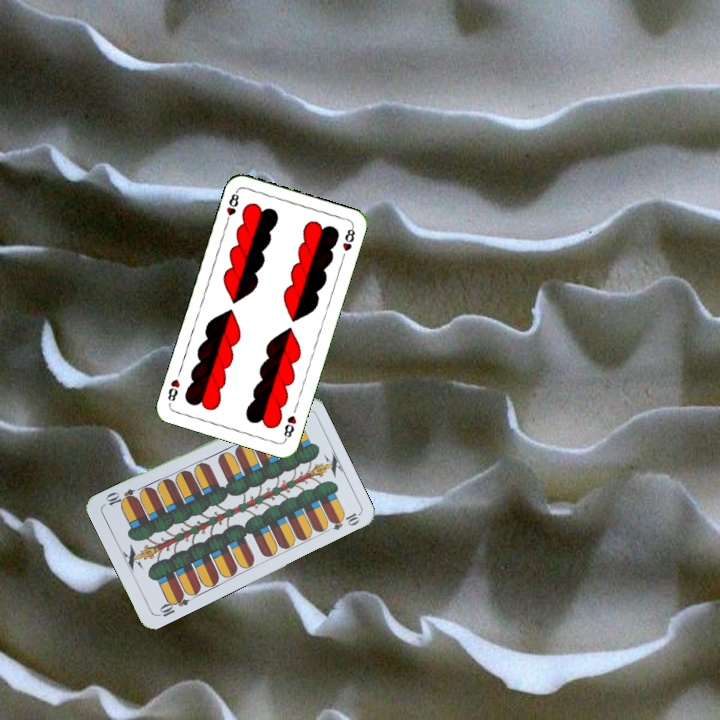E10: (153, 590, 192, 619)
H8: (222, 187, 242, 227), (280, 411, 299, 443)
